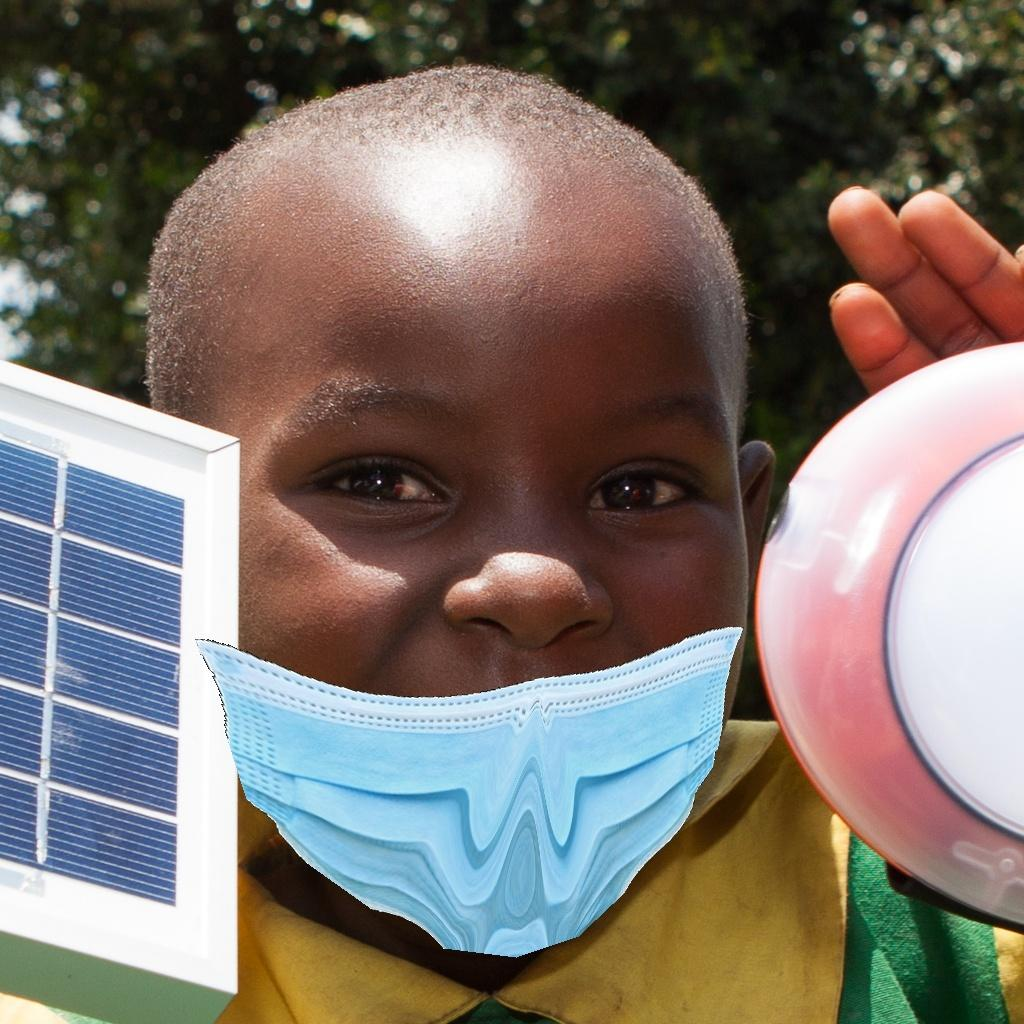Máscara Incorreta: (176, 253, 763, 910)
